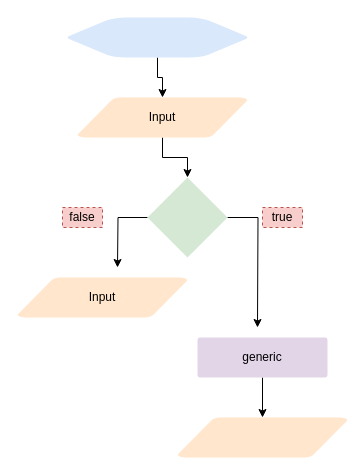
This 364x474 diagram has some shape labels left out. The shapes that lost their labels are listed below. From the top down, each one's box as (x1, y1, x2, y2) in pixels, then its label:
(67, 17, 247, 57): Event
(147, 177, 227, 257): decision
(177, 417, 347, 457): Output
